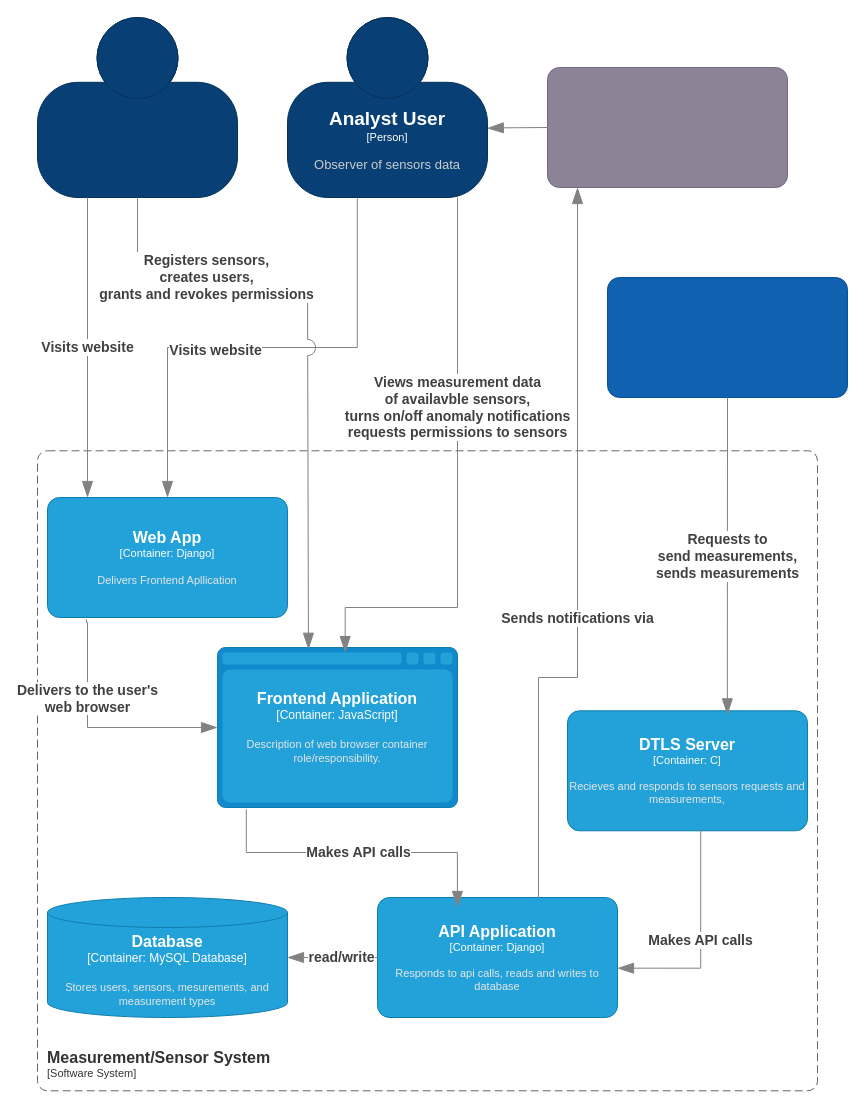
Image size: 865x1109. Some labels were removed from this diagram. Each missing label, with the box of its shape:
Administrator [Person] Person managing application: (36, 16, 238, 198)
E-mail System [Software System]: (546, 66, 788, 188)
Sensor [Device] Measure environmental parameters and send measurements to App: (606, 276, 848, 398)
